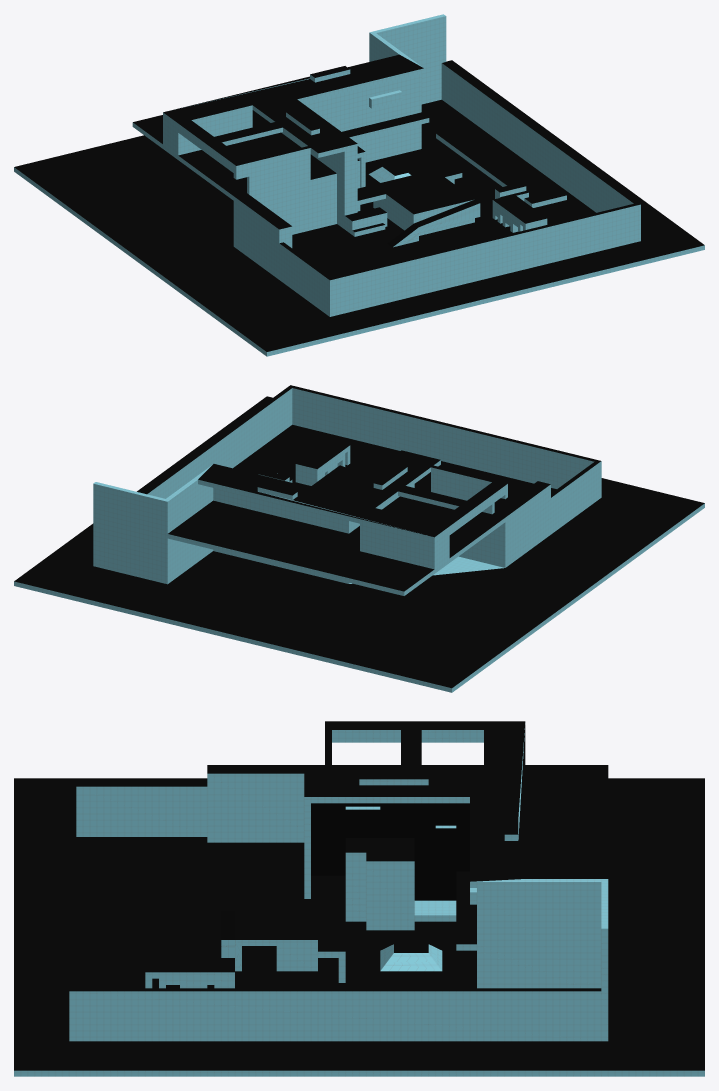
Rendered from Level.fbx.
The picture shows the model from 3 angles, top to bottom: view 1: azimuth 30°, elevation 25°; view 2: azimuth 150°, elevation 25°; view 3: azimuth 270°, elevation 25°; orthographic projection. The views are drawn at different scales.
Parts seen in each view (by area): view 1: Level; view 2: Level; view 3: Level.
Part boxes in pixels (x1,y1,x2,y2): Level: (14,14,704,356); Level: (14,385,704,692); Level: (14,721,704,1076).
Bounding box in the file's own units: 10000 × 2100 × 10000.
Materials: 2 (1 with a texture image).
